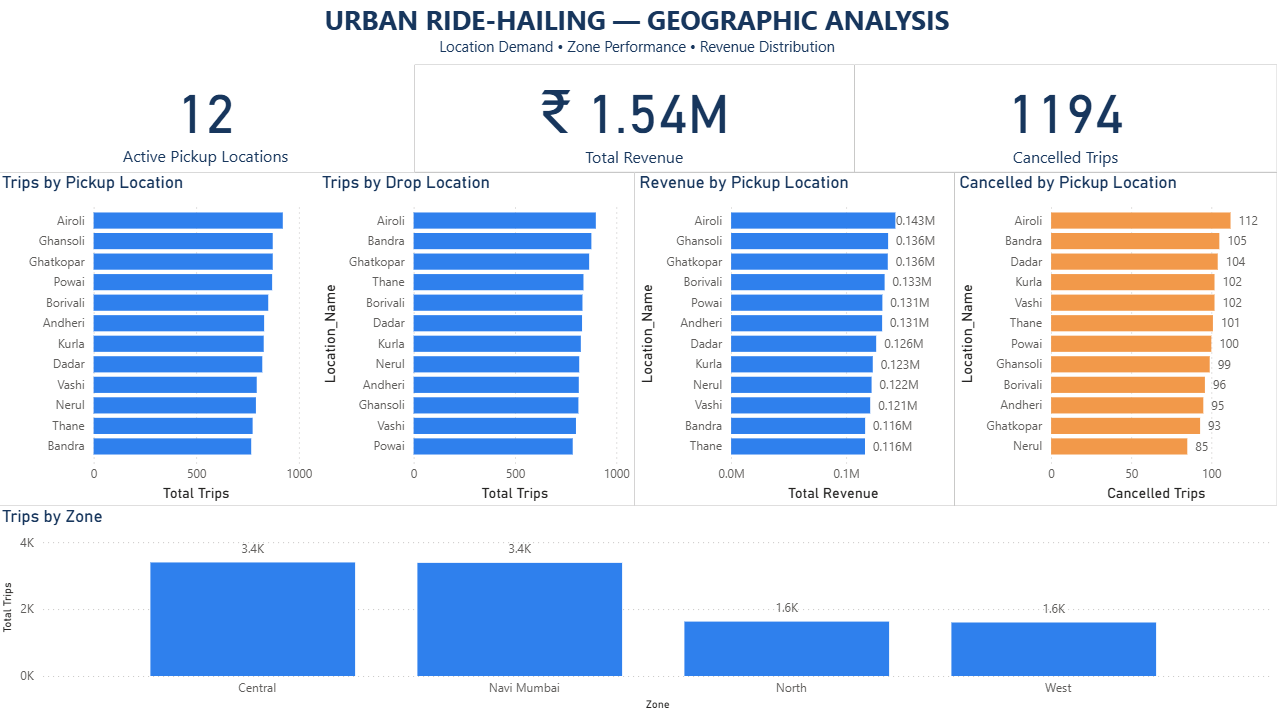

Layout of this report page (visuals, bound fields, positions):
{"tool":"powerbi","page":{"name":"Geographic Analysis","canvas":[1280,720],"ordinal":5},"visuals":[{"type":"textbox","box":[0,0,1280,68.8],"z":0},{"type":"clusteredBarChart","title":"Trips by Pickup Location","fields":{"Category":["DimLocation.Location_Name"],"Y":["FactTrips.Total Trips"]},"box":[0,176.2,320,333.8],"z":1000},{"type":"clusteredBarChart","title":"Trips by Drop Location","fields":{"Category":["DimDropLocation.Location_Name"],"Y":["FactTrips.Total Trips"]},"box":[320,176.2,317.5,333.8],"z":2000},{"type":"clusteredColumnChart","title":"Trips by Zone","fields":{"Category":["DimLocation.Zone"],"Y":["FactTrips.Total Trips"]},"box":[0,510,1280,210],"z":3000},{"type":"clusteredBarChart","title":"Revenue by Pickup Location","fields":{"Category":["DimLocation.Location_Name"],"Y":["FactTrips.Total Revenue"]},"box":[637.5,176.2,320,333.8],"z":4000},{"type":"clusteredBarChart","title":"Cancelled by Pickup Location","fields":{"Category":["DimLocation.Location_Name"],"Y":["FactTrips.Cancelled Trips"]},"box":[957.5,176.2,322.5,333.8],"z":5000},{"type":"card","fields":{"Values":["FactTrips.Active Pickup Locations"]},"box":[0,67.5,417.5,108.8],"z":6000},{"type":"card","fields":{"Values":["FactTrips.Total Revenue"]},"box":[417.5,68.8,440,107.5],"z":7000},{"type":"card","fields":{"Values":["FactTrips.Cancelled Trips"]},"box":[857.5,68.8,422.5,107.5],"z":8000}]}

Visuals, with their boxes in screenshot pixels (x1, y1, x2, y2), scaled from the page's 1280x720 canvas onto the 1277x714 screenshot:
textbox: [0, 0, 1276, 68]
"Trips by Pickup Location" clusteredBarChart: [0, 175, 319, 506]
"Trips by Drop Location" clusteredBarChart: [319, 175, 636, 506]
"Trips by Zone" clusteredColumnChart: [0, 506, 1276, 713]
"Revenue by Pickup Location" clusteredBarChart: [636, 175, 955, 506]
"Cancelled by Pickup Location" clusteredBarChart: [955, 175, 1276, 506]
card - FactTrips.Active Pickup Locations: [0, 67, 417, 175]
card - FactTrips.Total Revenue: [417, 68, 855, 175]
card - FactTrips.Cancelled Trips: [855, 68, 1276, 175]
